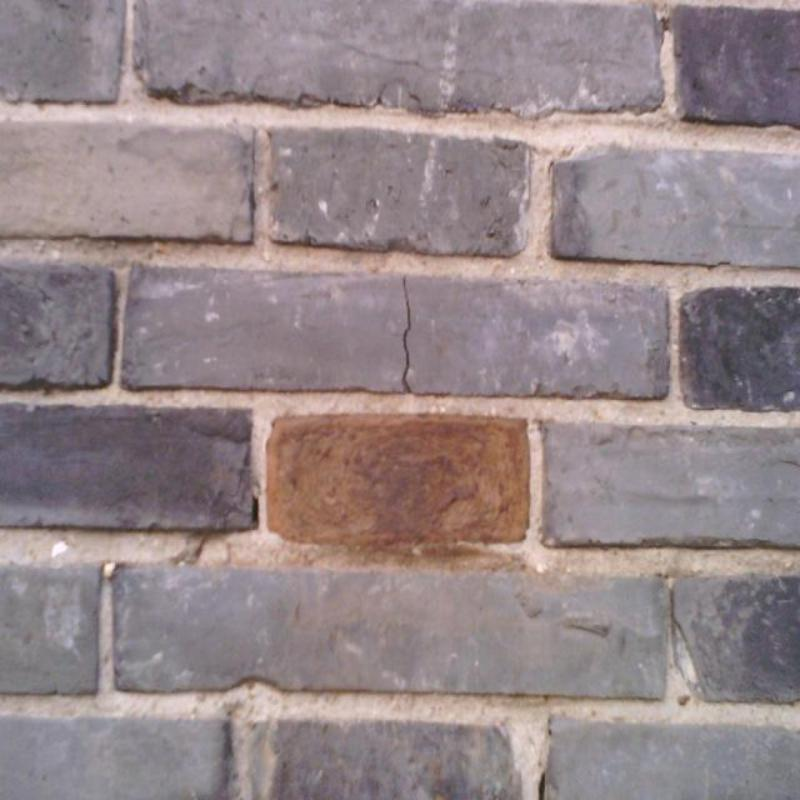pothole: (401, 275, 412, 394), (180, 532, 211, 566), (251, 496, 260, 528), (538, 771, 545, 799)
